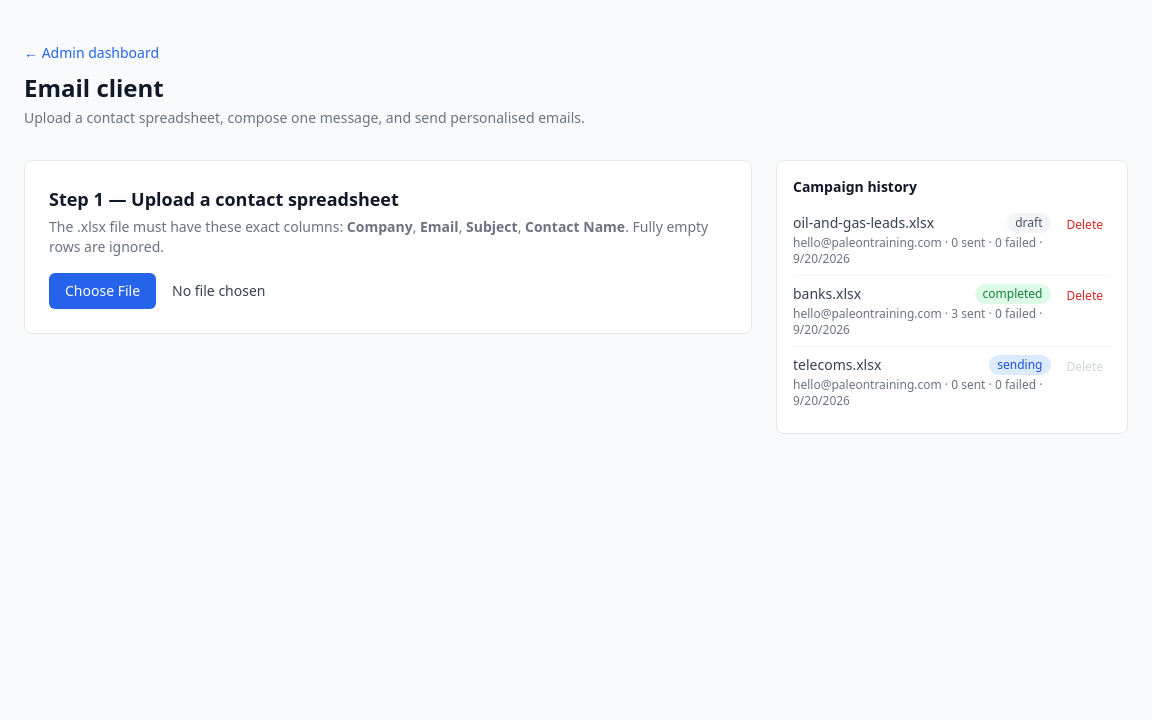
it: EmailClientPage — deleting campaigns › deletes a campaign after confirmation and removes it from the history
The image size is (1152, 720).
Click the button with aria-label "Delete campaign oil-and-gas-leads.xlsx" at point(1085, 225), box 1058,213 -> 1111,237
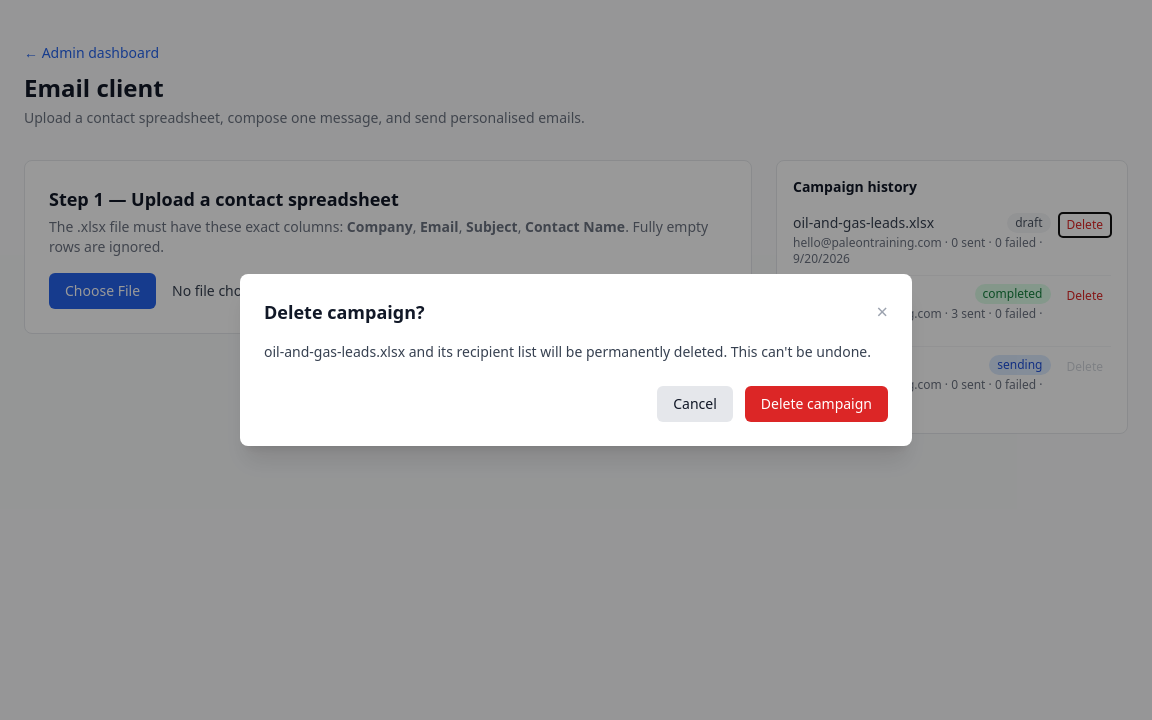
expect the text "can't be undone" is shown: met, box 731,342 -> 871,361
Click the button "Delete campaign" at point(816, 404), box 745,386 -> 888,422
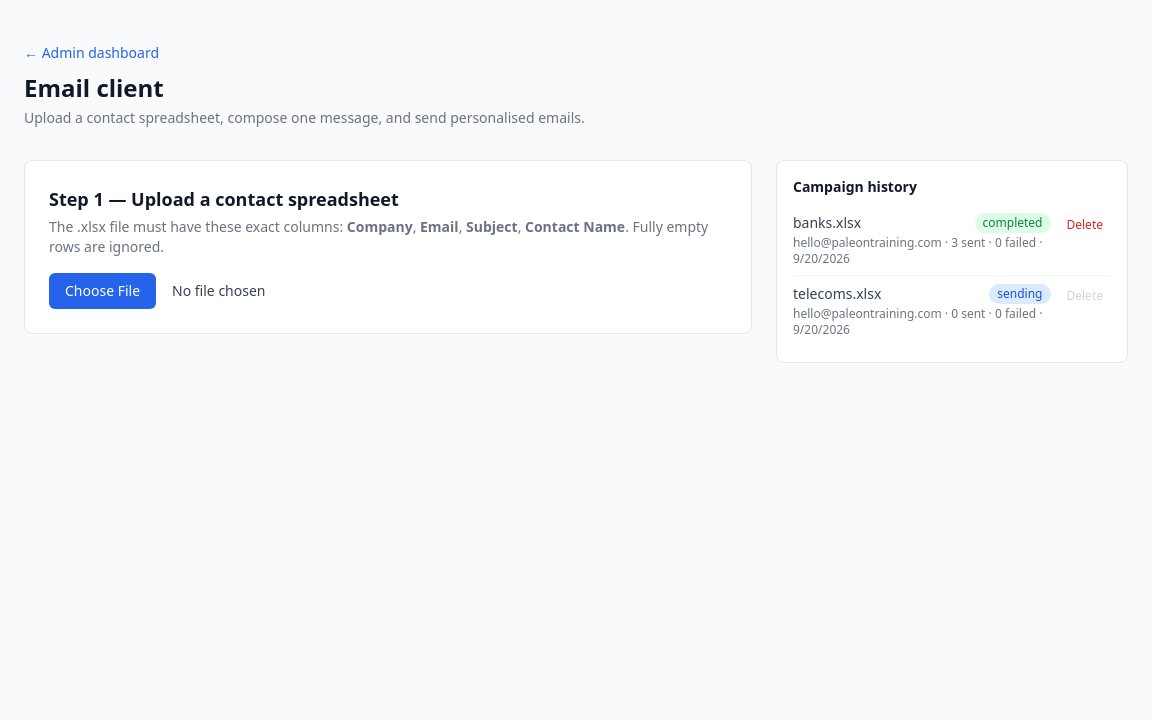
expect the text "banks.xlsx" is shown: met, box 793,213 -> 861,233
expect the button "oil-and-gas-leads.xlsx" is gone: met
expect the heading "Delete campaign?" is gone: met
